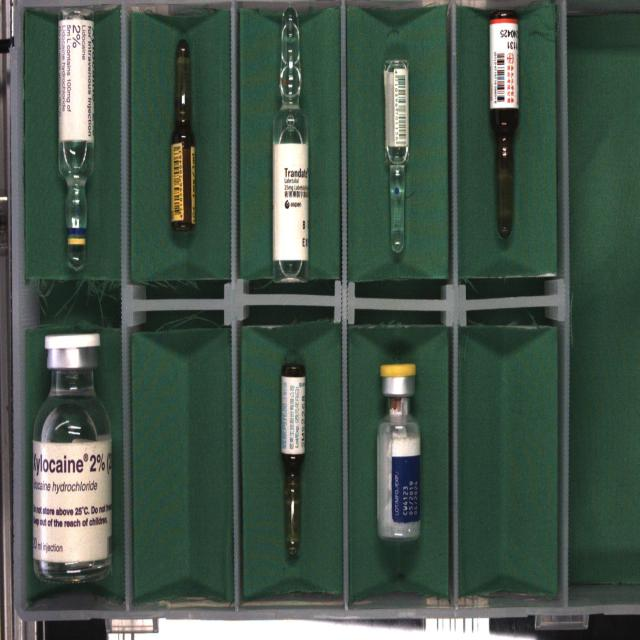Vials: (32, 332, 112, 582), (377, 363, 420, 541)
